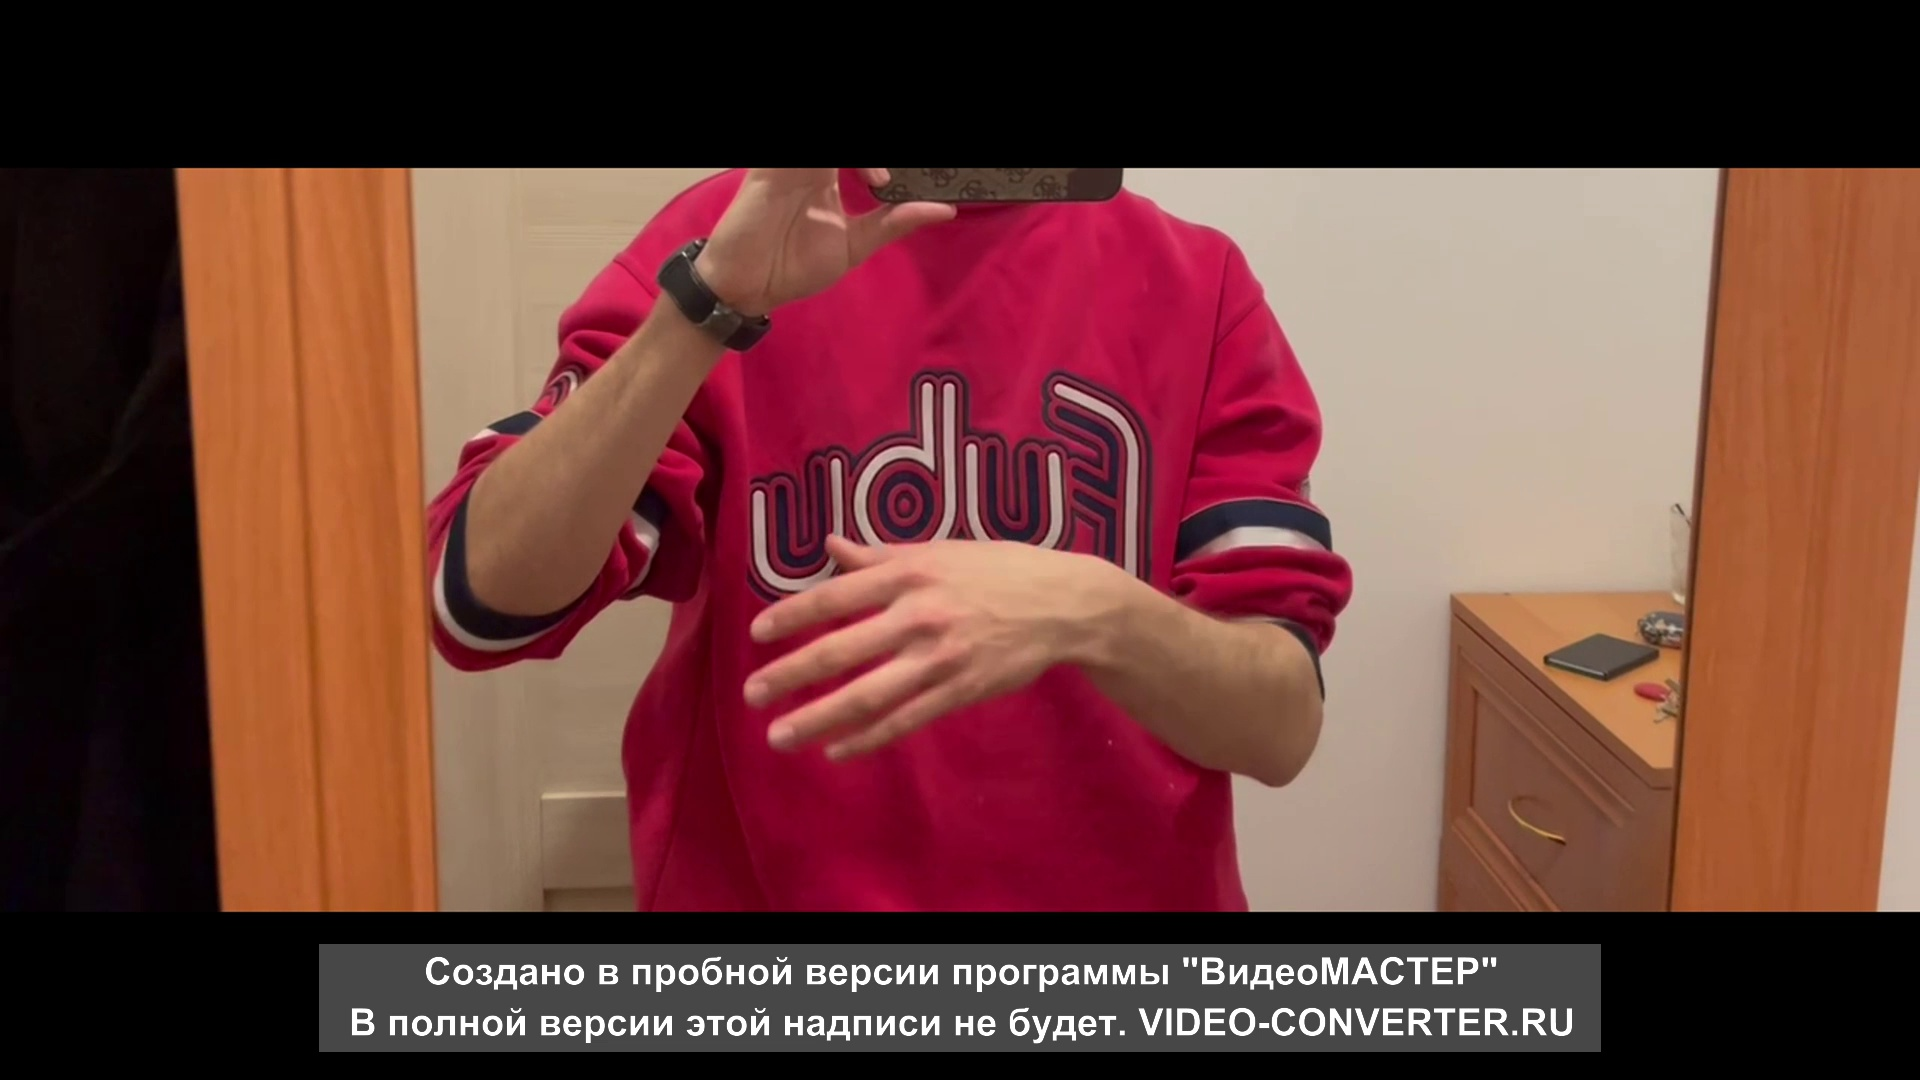Кисть: (740, 531, 1112, 762)
